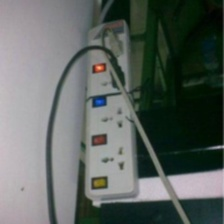three_eye_plug: (79, 15, 141, 205)
